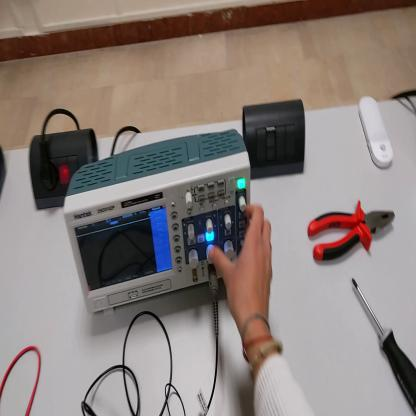hand: (209, 203, 274, 327)
oscilloscope: (67, 132, 254, 316)
oscilloscope probe tip: (80, 401, 96, 416)
pliers: (307, 203, 396, 265)
screwdriver-: (353, 279, 416, 413)
socket: (30, 130, 99, 214), (1, 145, 10, 199)
